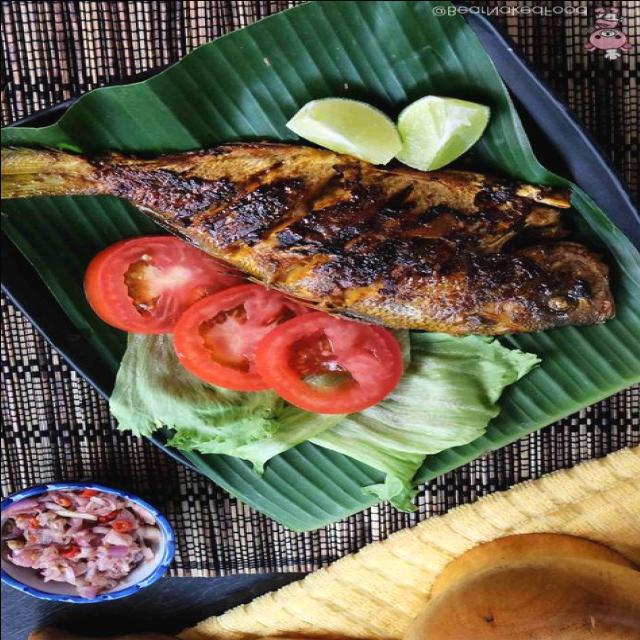ikan bakar: (0, 127, 616, 335)
